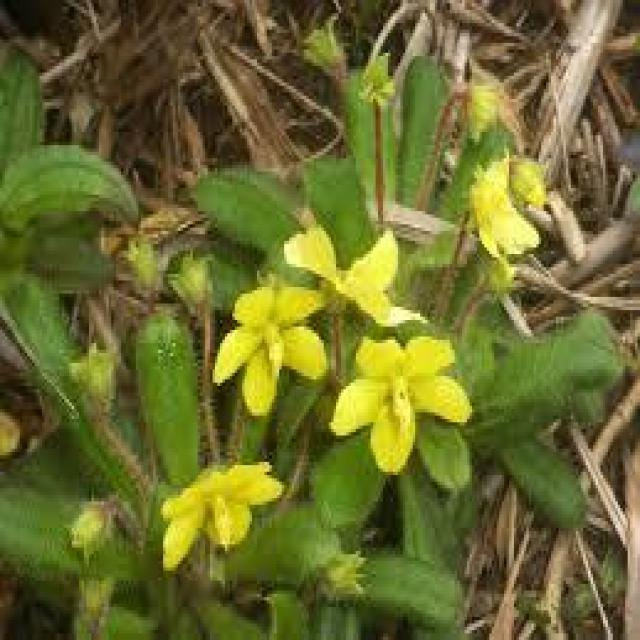organic waste: (331, 334, 482, 478), (276, 208, 431, 333), (149, 432, 288, 571), (215, 267, 326, 409), (469, 158, 548, 287)
